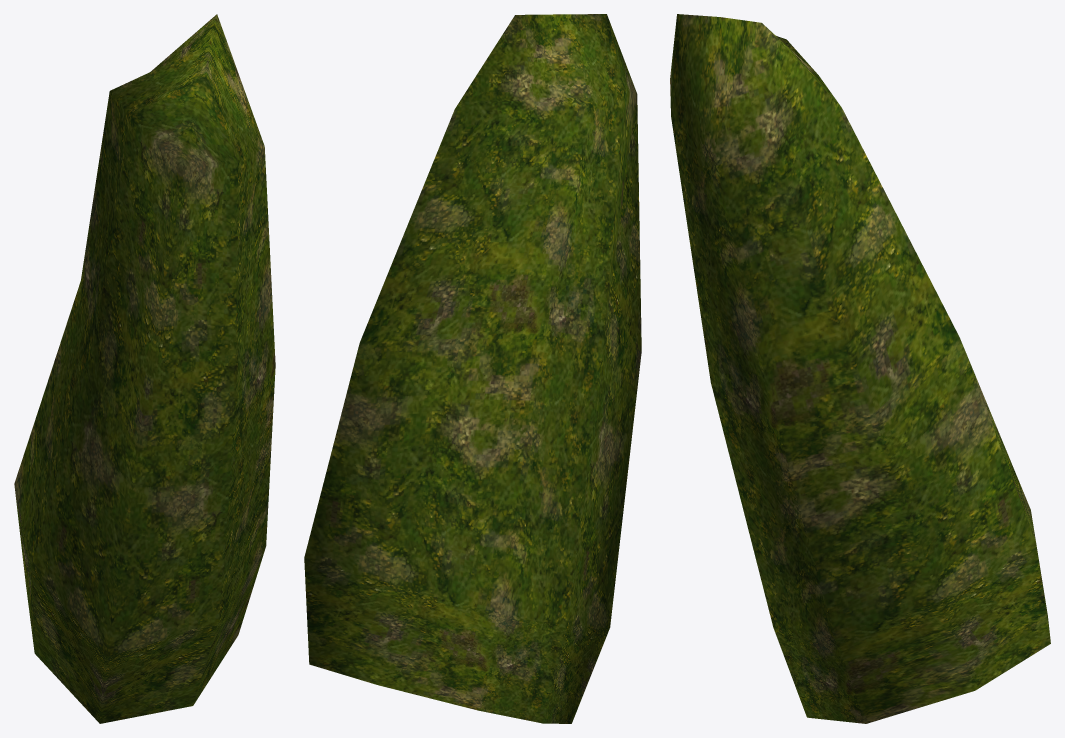
File: OVERHILL_A_01_BR_ROCK207.fbx
The picture shows the model from 3 angles, left to right: view 1: azimuth 30°, elevation 25°; view 2: azimuth 150°, elevation 25°; view 3: azimuth 270°, elevation 25°; orthographic projection. The views are drawn at different scales.
Visible parts, largest first — view 1: OVERHILL_A_01_BR_ROCK207; view 2: OVERHILL_A_01_BR_ROCK207; view 3: OVERHILL_A_01_BR_ROCK207.
Boxes of the visible parts, x1,y1,x2,y2 form: OVERHILL_A_01_BR_ROCK207: (14, 14, 275, 723); OVERHILL_A_01_BR_ROCK207: (304, 14, 641, 723); OVERHILL_A_01_BR_ROCK207: (670, 14, 1050, 723).
Size of the model in its own units: 24150 by 71027 by 35235.
Materials: 1 (1 with a texture image).
